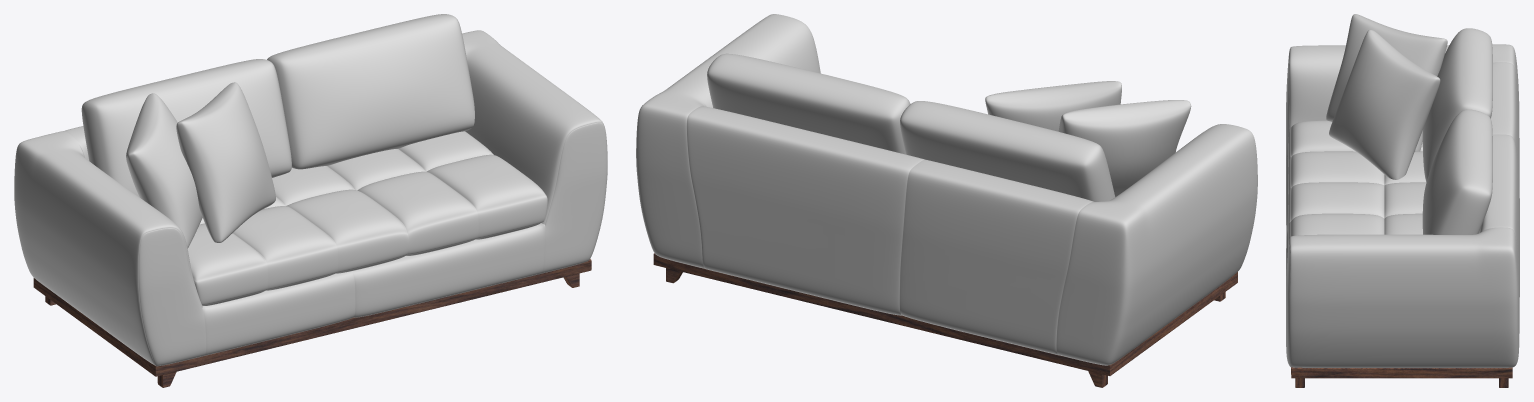
The model's file is SBH_Senart_2.5Str.glb.
3 renders of one model, left to right at view 1: azimuth 30°, elevation 25°; view 2: azimuth 150°, elevation 25°; view 3: azimuth 270°, elevation 25°, orthographic. The views are drawn at different scales.
Visible parts, largest first — view 1: Senart 2.5Str; view 2: Senart 2.5Str; view 3: Senart 2.5Str.
Boxes of the visible parts, x1,y1,x2,y2 form: Senart 2.5Str: (14, 14, 607, 387); Senart 2.5Str: (636, 14, 1257, 387); Senart 2.5Str: (1286, 14, 1519, 387).
Size of the model in its own units: 2.18 by 0.9737 by 1.03.
Materials: 2 (1 with a texture image).
